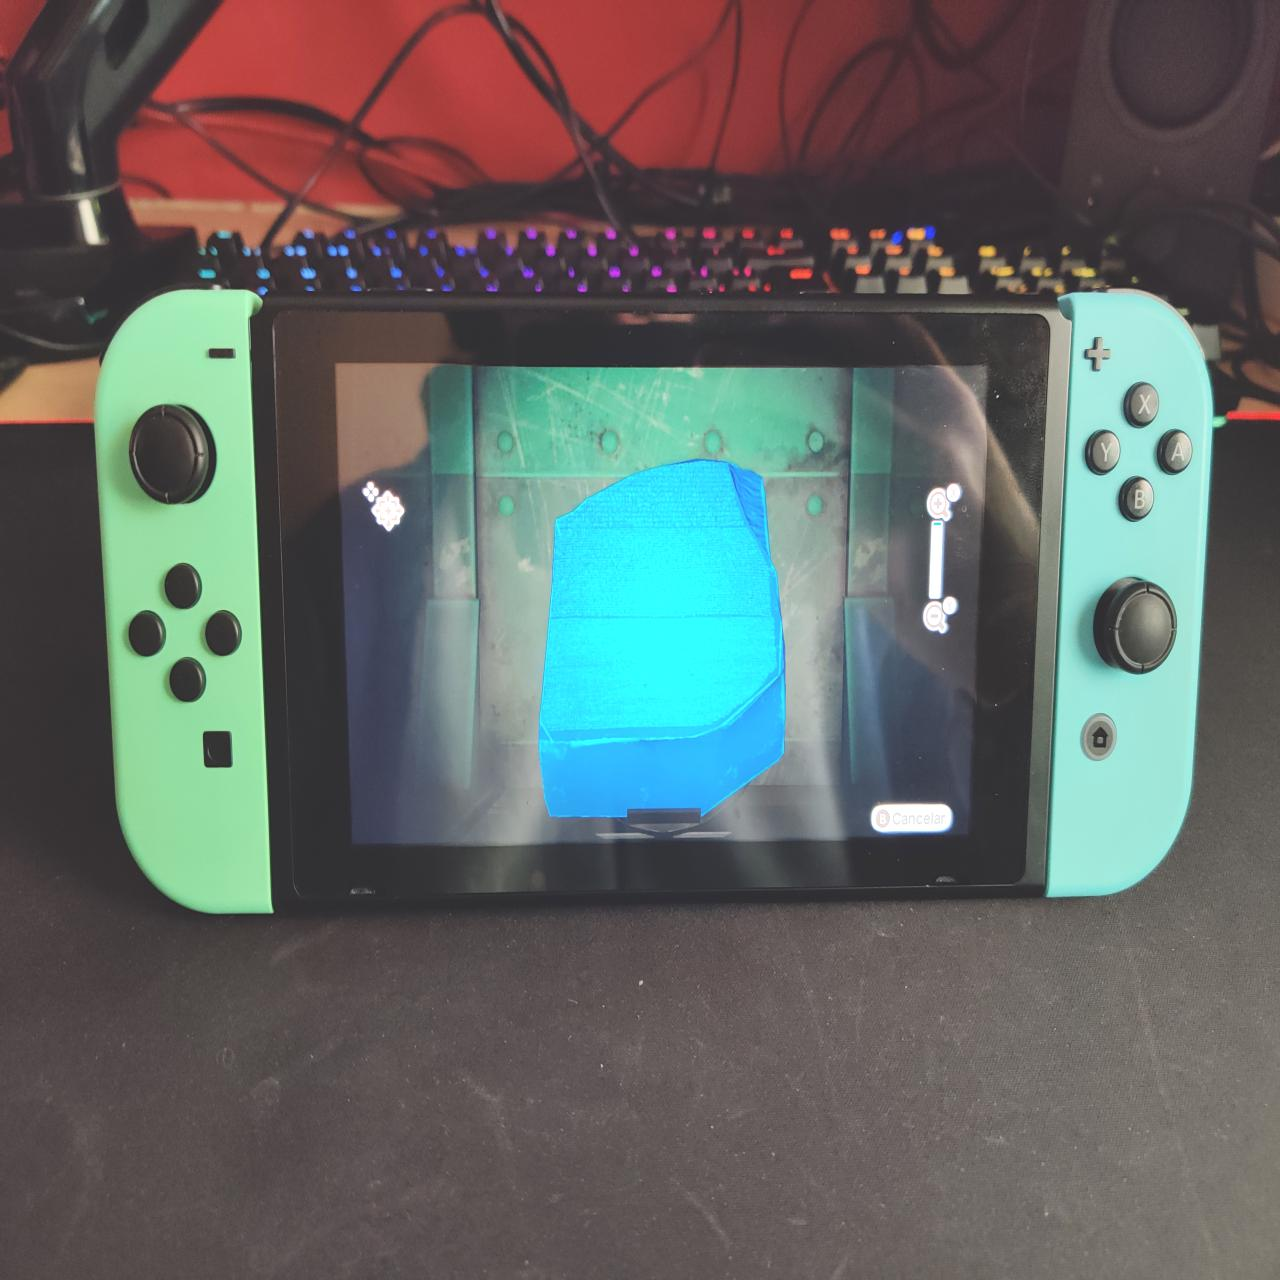RosettaStoneFake: (542, 452, 797, 821)
